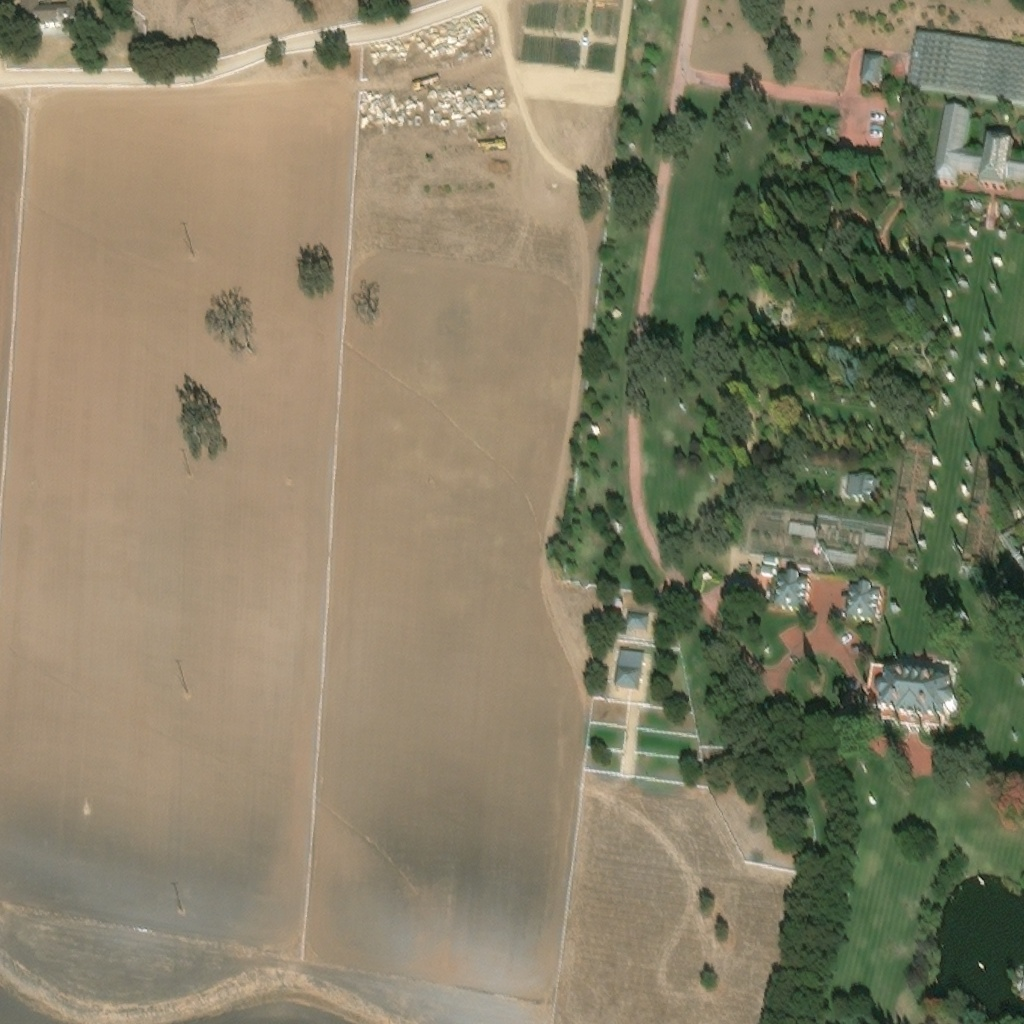0 no-damage: (906, 28, 1023, 104), (933, 106, 1023, 190), (865, 665, 959, 731), (18, 0, 83, 25), (997, 518, 1023, 572), (613, 647, 645, 690), (772, 572, 809, 609), (845, 582, 879, 620), (846, 472, 879, 501), (858, 53, 884, 86), (784, 522, 819, 539), (824, 550, 857, 566), (624, 613, 649, 632), (863, 533, 886, 548), (761, 564, 775, 573), (763, 555, 777, 564)
